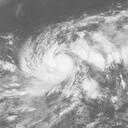cyclone: (20, 35, 74, 83)
